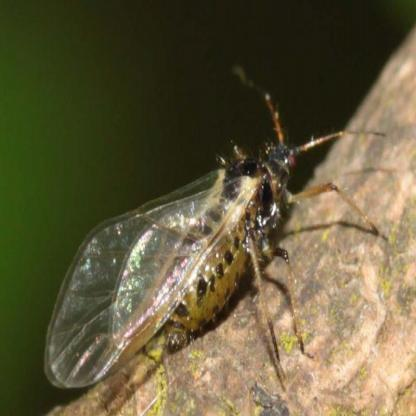aphid: (40, 68, 376, 384)
